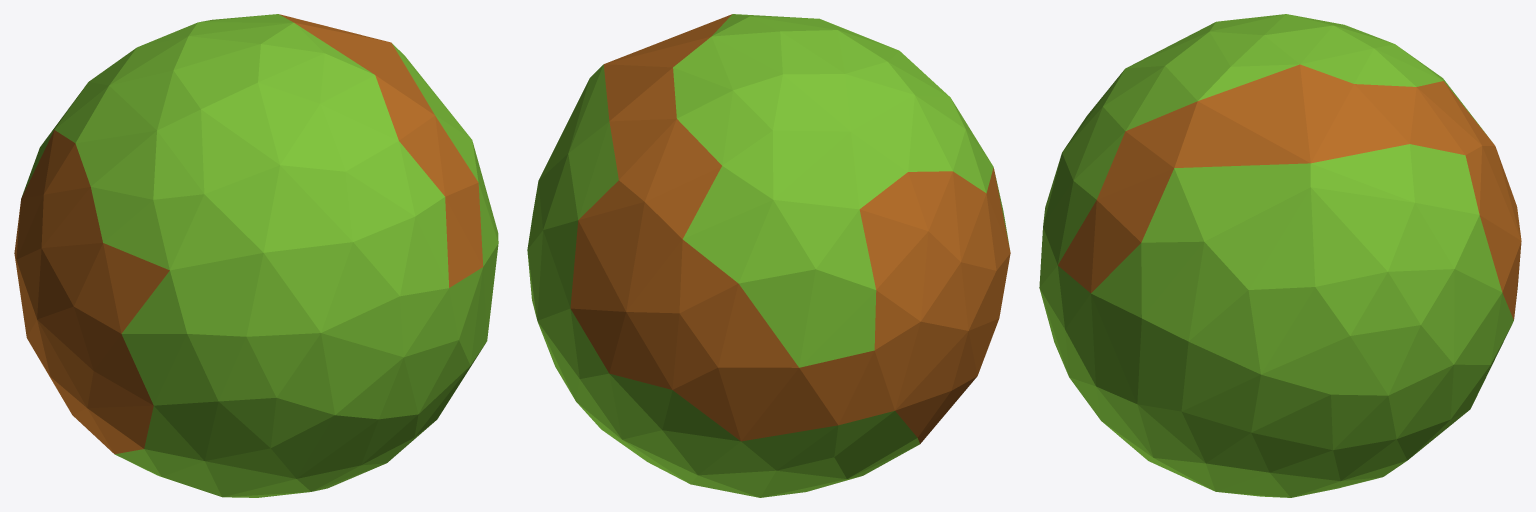
File: naboo_simple.dae
3 views of the same model, side by side, from view 1: azimuth 30°, elevation 25°; view 2: azimuth 150°, elevation 25°; view 3: azimuth 270°, elevation 25° (orthographic).
Parts seen in each view (by area): view 1: Icosphere; view 2: Icosphere; view 3: Icosphere.
Part boxes in pixels (bbox=[...]): Icosphere: bbox=[14, 14, 498, 497]; Icosphere: bbox=[527, 14, 1010, 497]; Icosphere: bbox=[1039, 14, 1521, 497].
Bounding box in the file's own units: 6.04 × 5.99 × 6.03.
